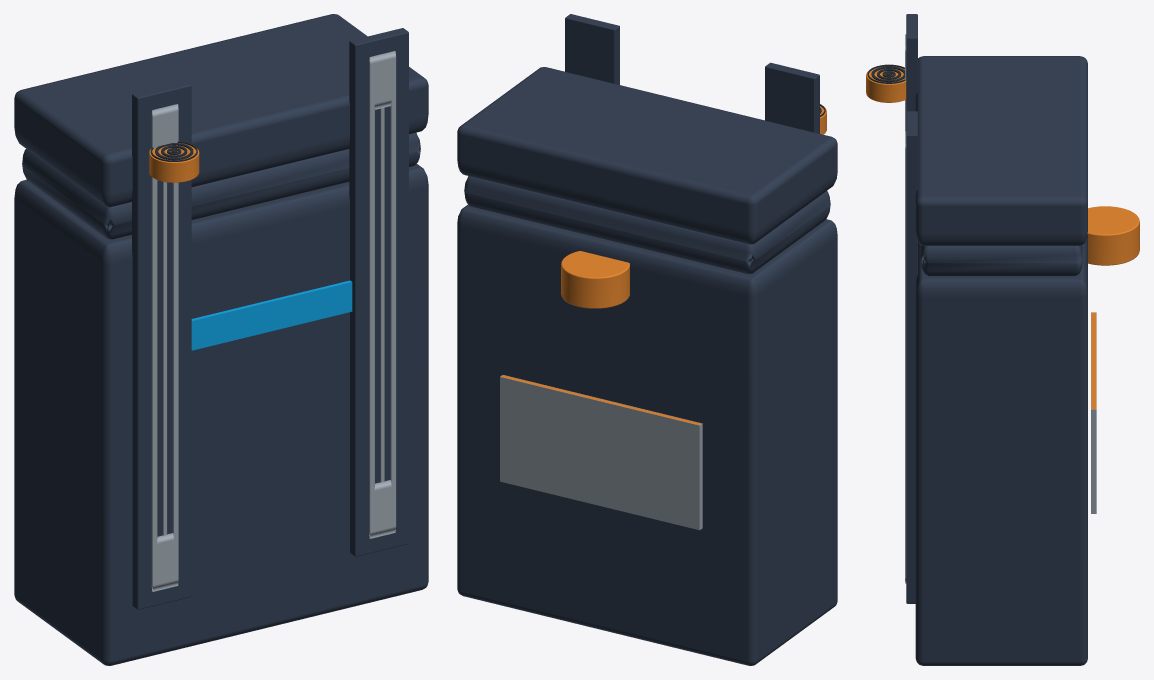
The model's file is sample-r22.glb.
3 renders of one model, left to right at view 1: azimuth 30°, elevation 25°; view 2: azimuth 150°, elevation 25°; view 3: azimuth 270°, elevation 25°, orthographic. The views are drawn at different scales.
Visible parts, largest first — view 1: pack, strap-l, strap-r, shoulder-speaker; view 2: pack, rear-panel, rear-sensor, strap-l, strap-r; view 3: pack, strap-l, rear-sensor, shoulder-speaker, strap-r, rear-panel.
Part boxes in pixels (x1,y1,x2,y2): pack: (14, 14, 428, 665); strap-l: (349, 28, 408, 556); strap-r: (132, 81, 191, 609); shoulder-speaker: (149, 141, 199, 182); pack: (457, 67, 837, 665); rear-panel: (500, 375, 702, 530); rear-sensor: (561, 251, 629, 308); strap-l: (565, 14, 619, 84); strap-r: (765, 62, 819, 133); pack: (915, 56, 1087, 665); strap-l: (905, 111, 917, 603); rear-sensor: (1087, 206, 1139, 265); shoulder-speaker: (866, 64, 906, 102); strap-r: (905, 14, 917, 131); rear-panel: (1091, 312, 1096, 513).
Size of the model in its own units: 0.3 by 0.5 by 0.238.
